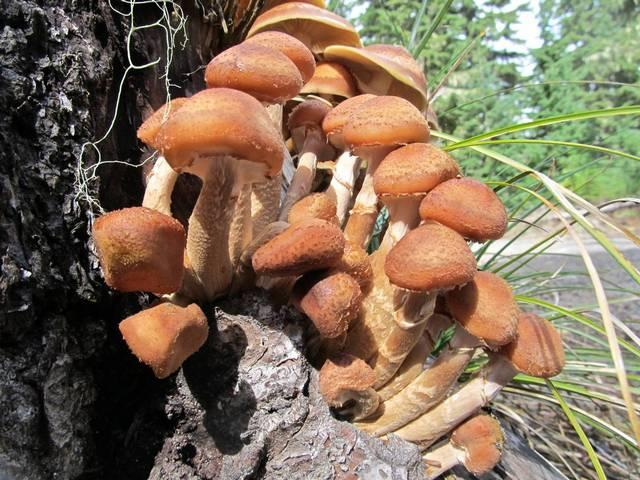Edible Mushroom: (90, 0, 565, 449), (136, 86, 289, 300)
